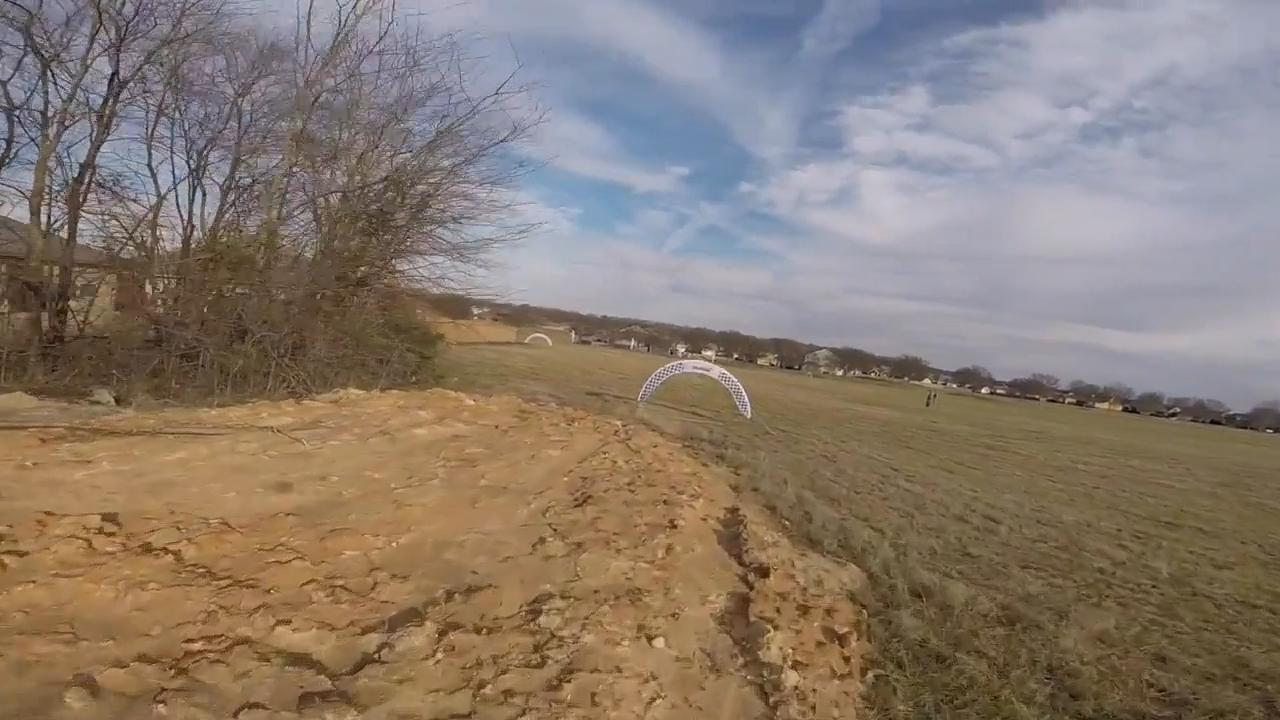gate: (639, 359, 752, 419)
